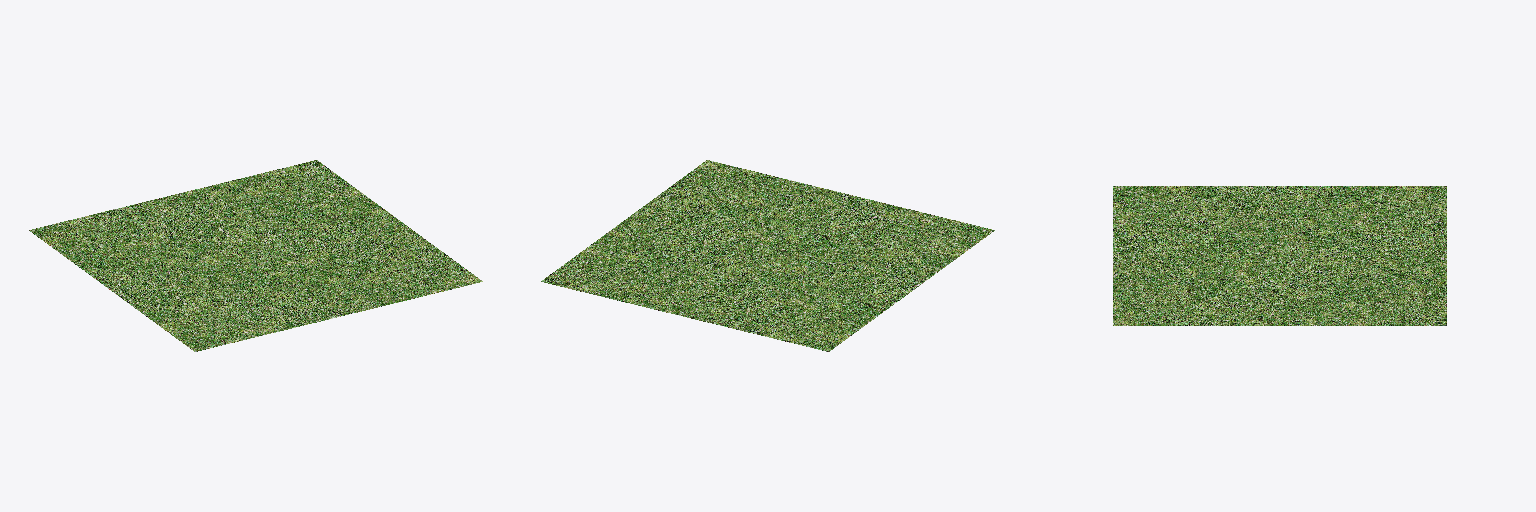
3 renders of one model, left to right at view 1: azimuth 30°, elevation 25°; view 2: azimuth 150°, elevation 25°; view 3: azimuth 270°, elevation 25°, orthographic.
Parts seen in each view (by area): view 1: Plane; view 2: Plane; view 3: Plane.
Part boxes in pixels (bbox=[...]): Plane: bbox=[29, 160, 482, 351]; Plane: bbox=[541, 160, 994, 351]; Plane: bbox=[1113, 186, 1446, 325].
Size of the model in its own units: 6 by 0 by 6.
1 materials, 1 textured.